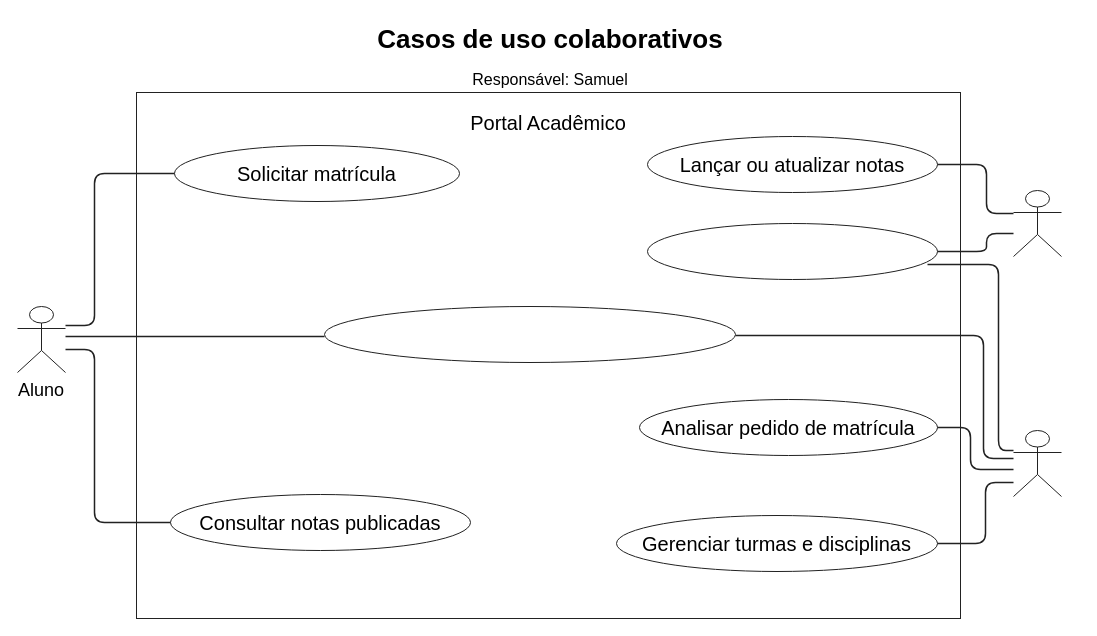
The diagram is 1097 pixels wide and 636 high, and some of its shapes have lost their labels. The centre of each missing label's shape, as x and y in pixels:
Acompanhar pedido de matrícula: the point at 530,334
Consultar turmas: the point at 792,251
Professor: the point at 1037,223
Secretaria: the point at 1037,463
